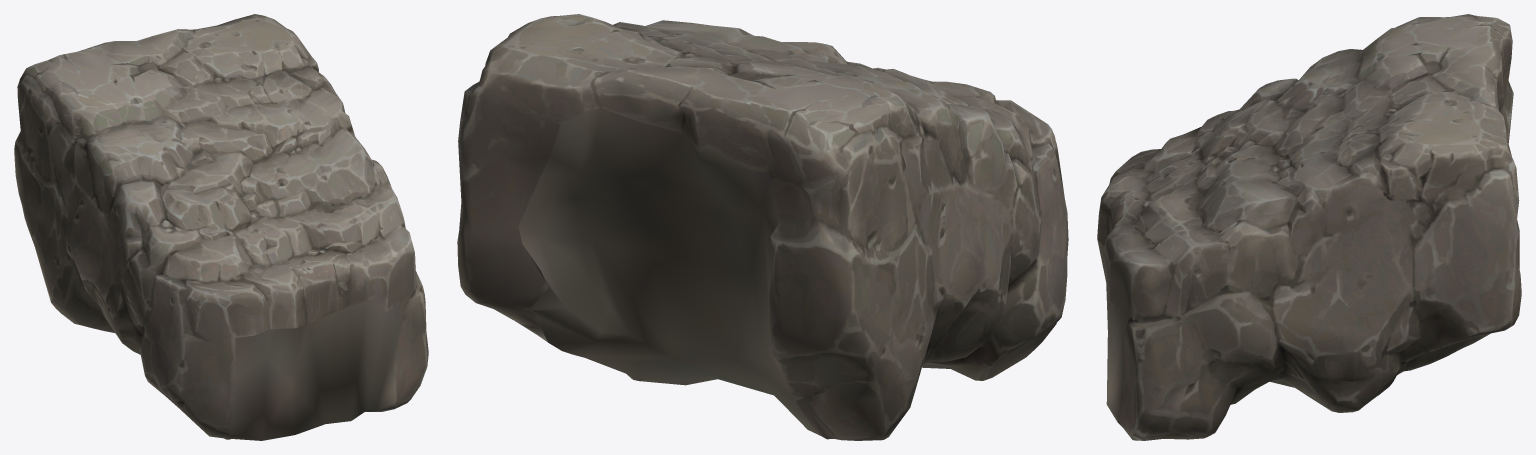
Rendered from Stair2.fbx.
3 renders of one model, left to right at view 1: azimuth 30°, elevation 25°; view 2: azimuth 150°, elevation 25°; view 3: azimuth 270°, elevation 25°, orthographic. The views are drawn at different scales.
Parts seen in each view (by area): view 1: Dn_HL_Stairs_Rock_B.001; view 2: Dn_HL_Stairs_Rock_B.001; view 3: Dn_HL_Stairs_Rock_B.001.
Boxes of the visible parts, <box> form: Dn_HL_Stairs_Rock_B.001: <box>14,14,428,440</box>; Dn_HL_Stairs_Rock_B.001: <box>457,14,1068,440</box>; Dn_HL_Stairs_Rock_B.001: <box>1097,14,1521,440</box>.
Bounding box in the file's own units: 850 × 849 × 1023.
Materials: 1 (1 with a texture image).
